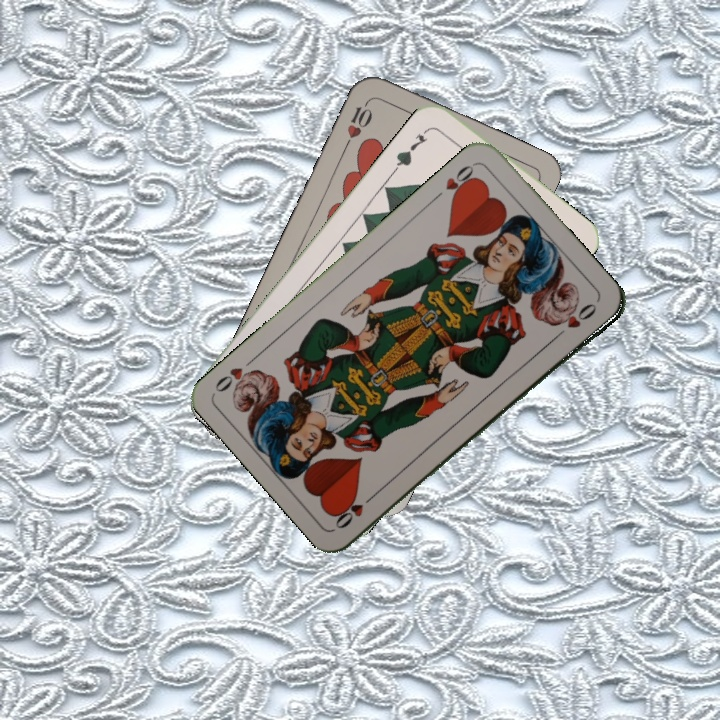G7: (391, 123, 434, 173)
H10: (340, 96, 375, 151)
HO: (429, 159, 481, 204), (331, 488, 380, 532)
